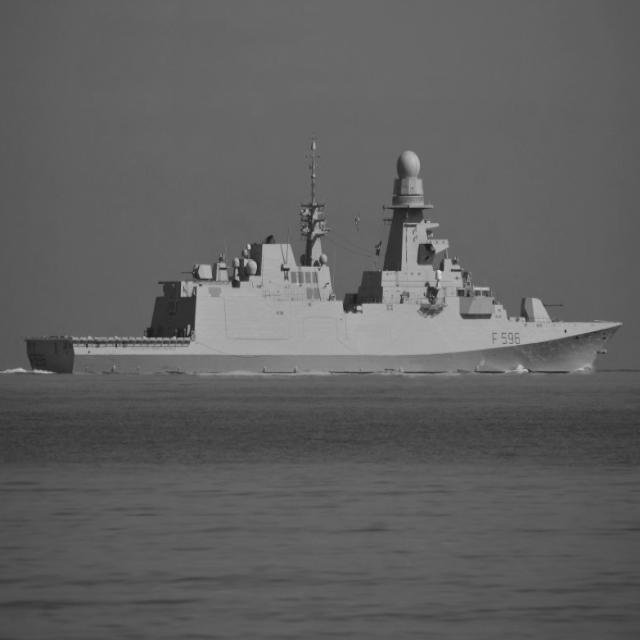Fragata: (25, 139, 629, 379)
